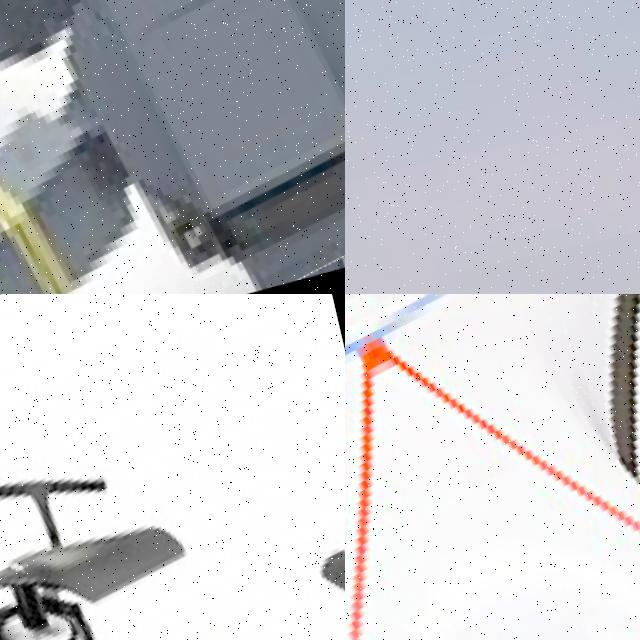drone: (0, 312, 345, 640), (345, 294, 640, 640), (0, 0, 345, 294)
